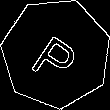P_NE: (27, 22, 85, 84)
